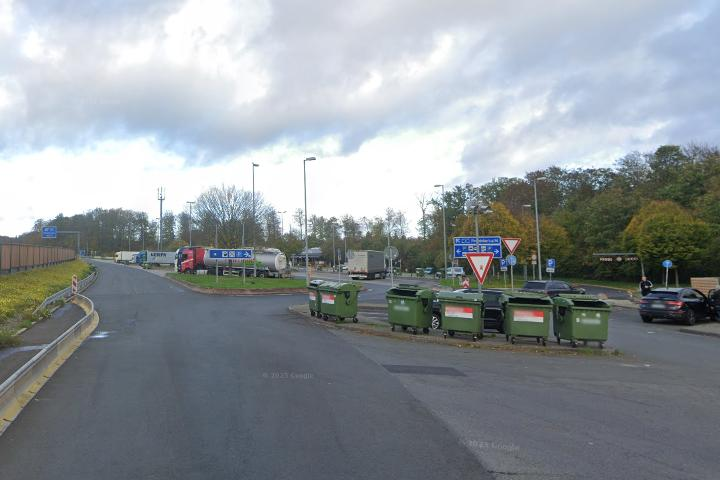traffic_sign: (465, 251, 494, 284), (502, 237, 522, 253), (506, 254, 517, 265), (547, 258, 555, 267)
vehicle: (172, 243, 290, 277), (638, 285, 714, 327), (342, 246, 390, 284), (132, 250, 191, 269), (112, 248, 148, 264)
